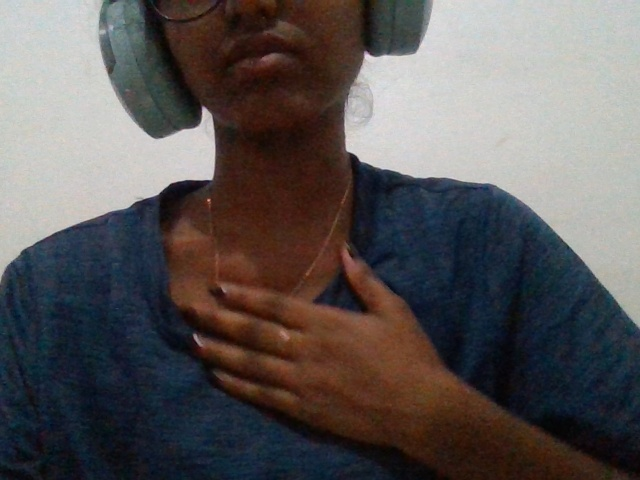Please: (160, 235, 509, 477)
